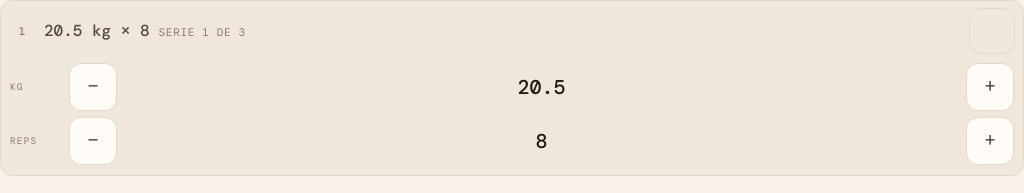
Scenario: SetRow weight controls › keeps stored decimals until adjusting, then uses whole kilos
Expected: the text "20.5" is shown, x1=518 y1=74 x2=566 y2=100
Click the button named "Subir peso 1 kg".
click(990, 87)  # box x1=966 y1=63 x2=1014 y2=111
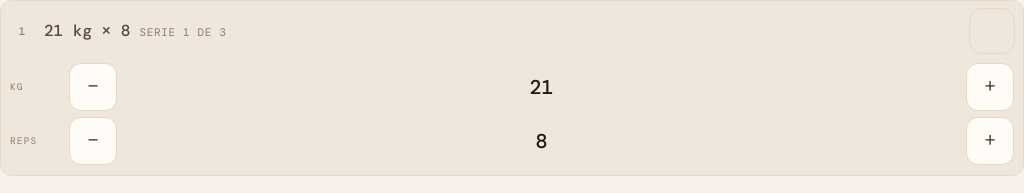
Expected: the text "21" is shown, x1=530 y1=74 x2=554 y2=100
Click the button named "Bajar peso 1 kg".
click(93, 87)  # box x1=69 y1=63 x2=117 y2=111
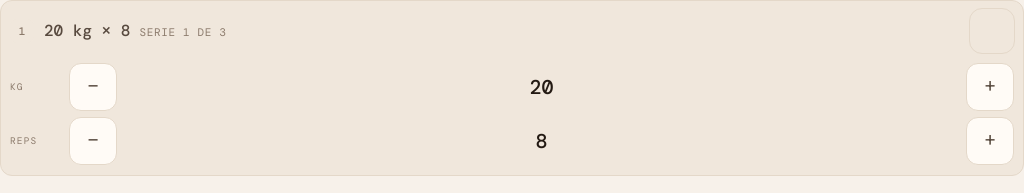
Expected: the text "8" is shown, x1=536 y1=128 x2=548 y2=154
Expected: the text "20" is shown, x1=530 y1=74 x2=554 y2=100
